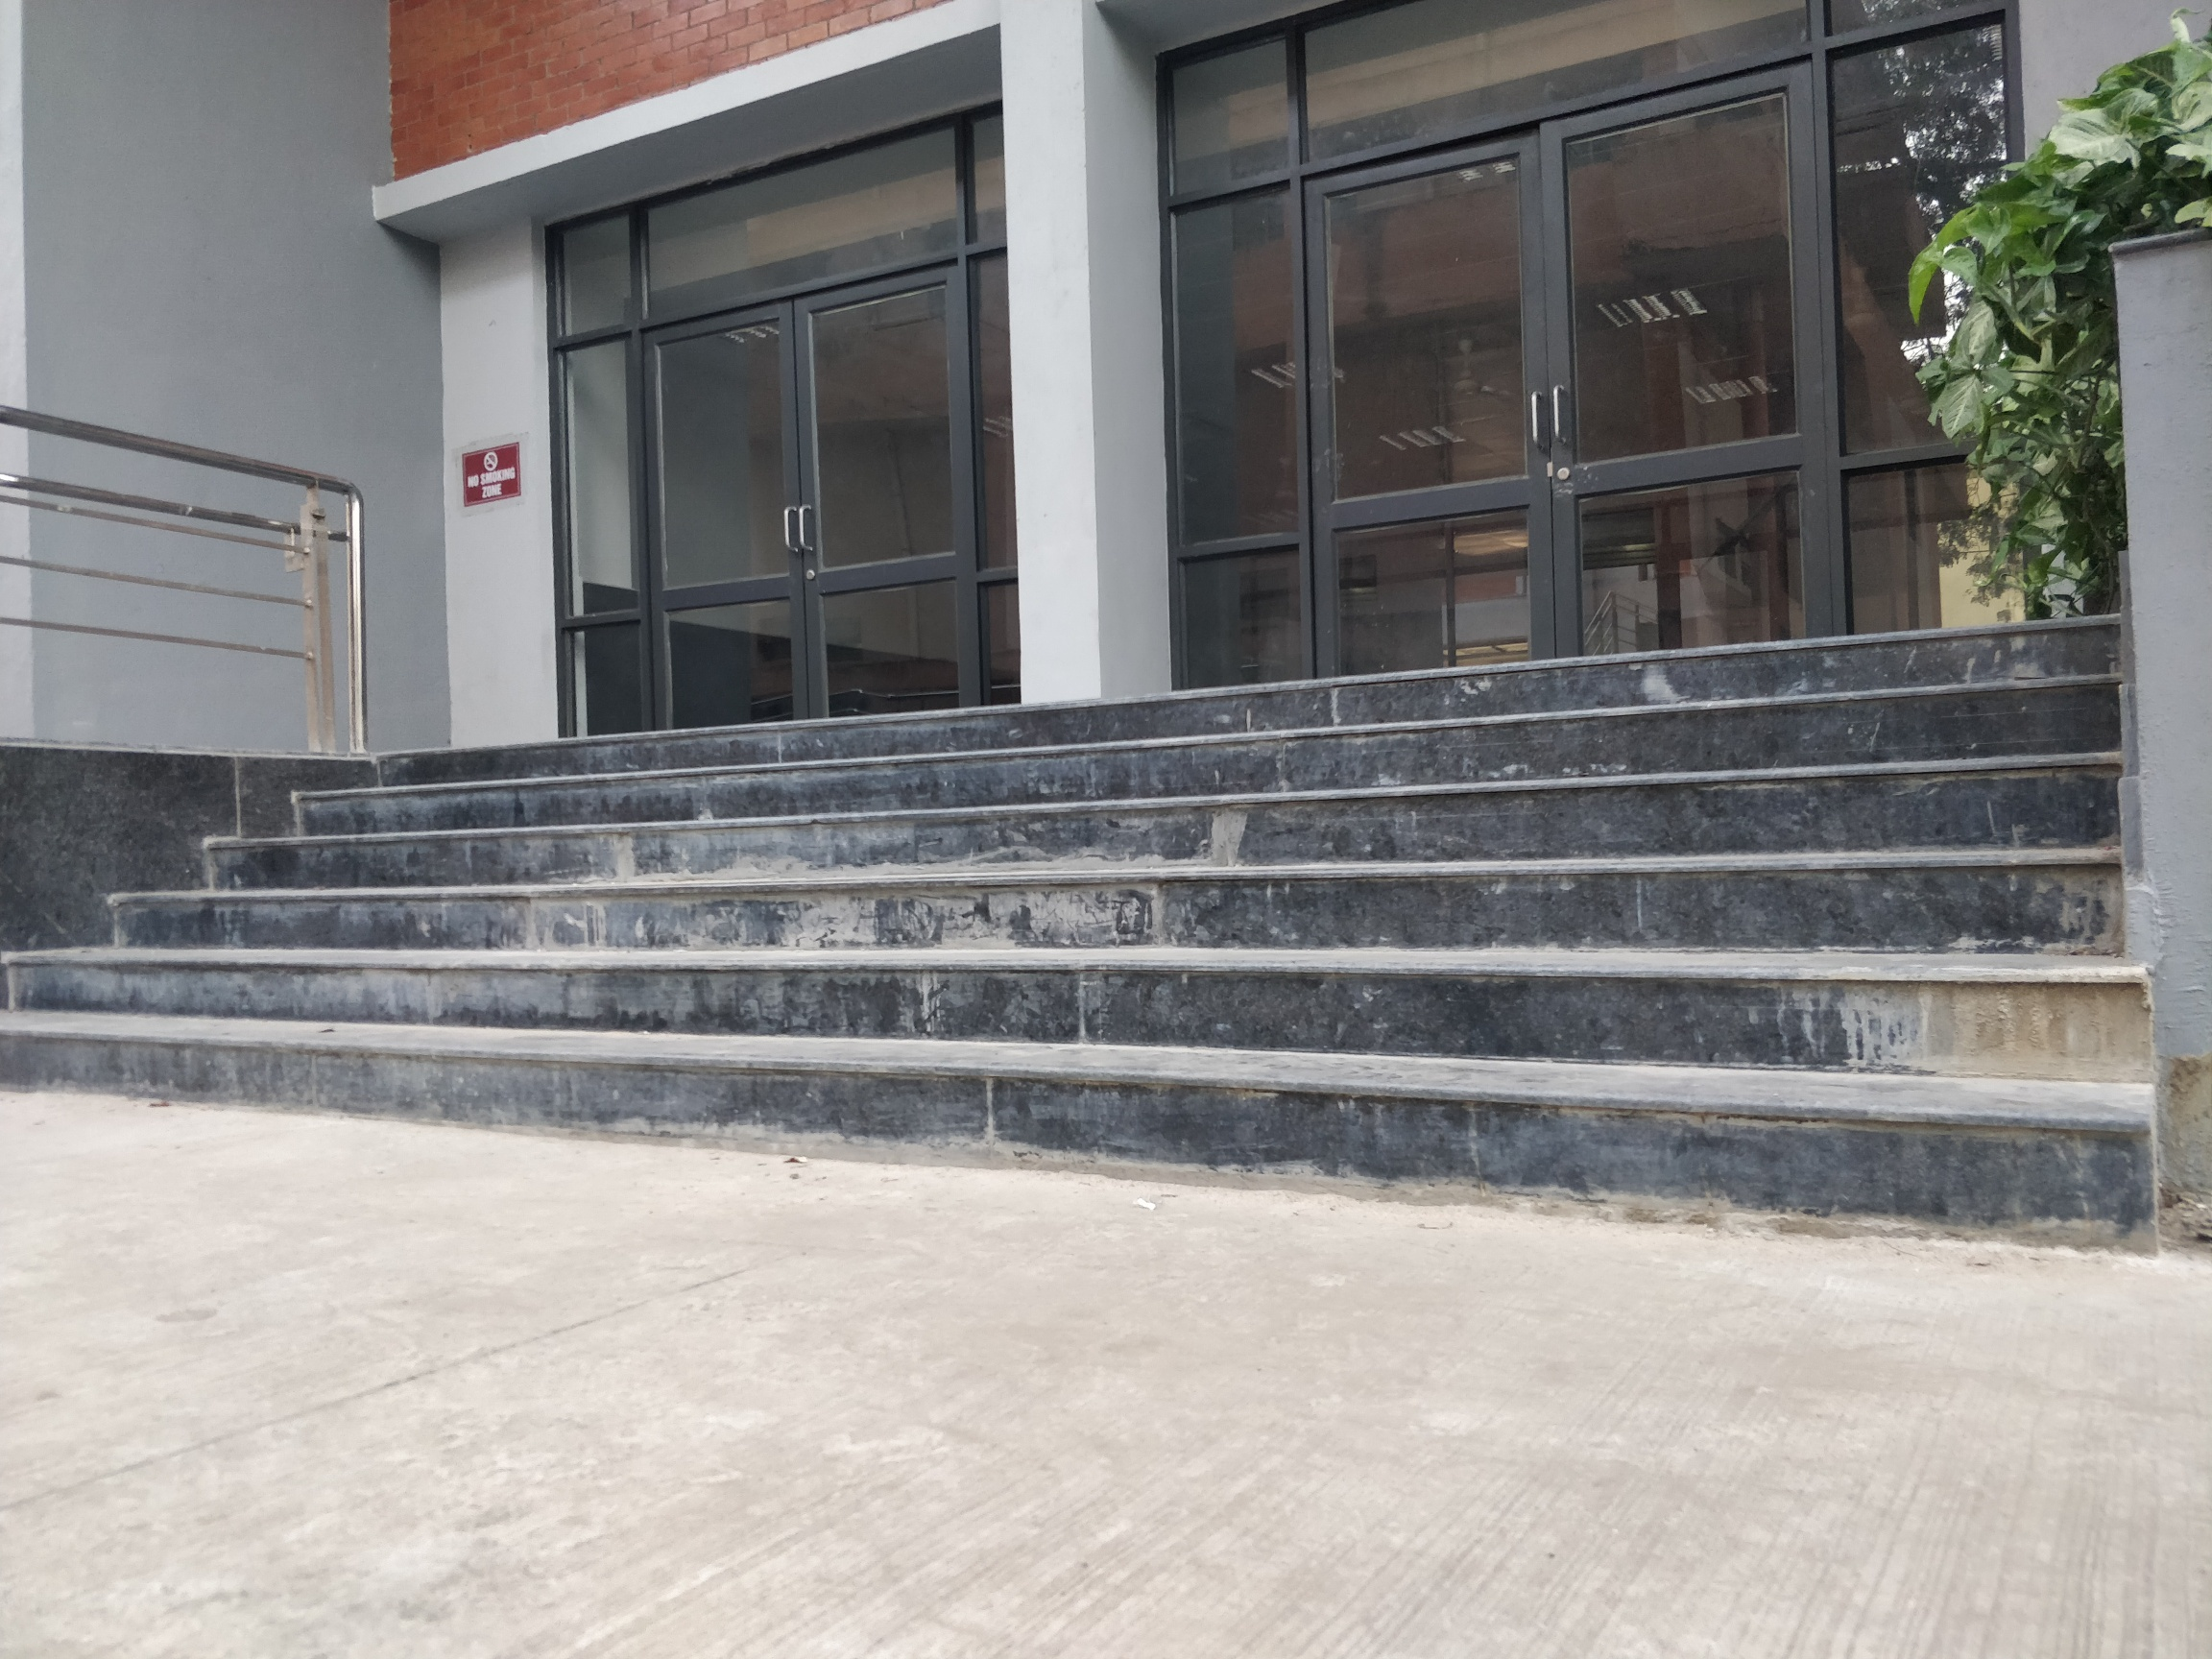stairs_up: (2, 598, 2155, 1267)
